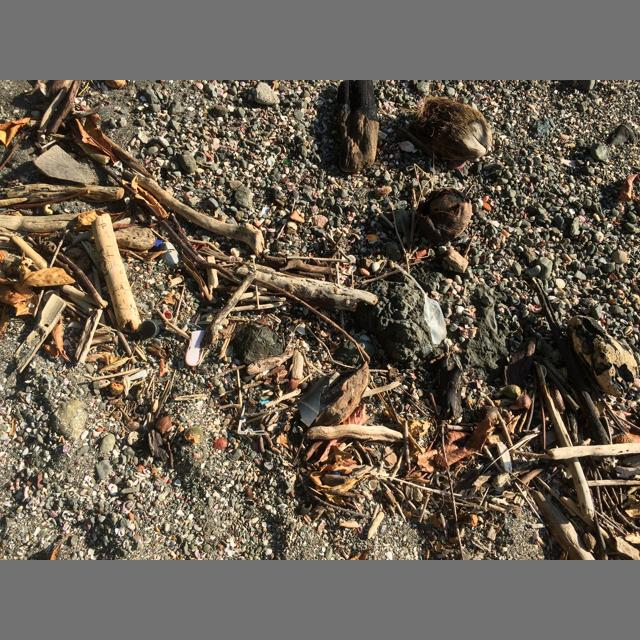litter: (394, 264, 447, 345), (295, 375, 334, 427), (237, 405, 268, 435), (185, 330, 207, 367), (141, 319, 164, 337), (129, 370, 147, 381), (261, 400, 270, 406)
